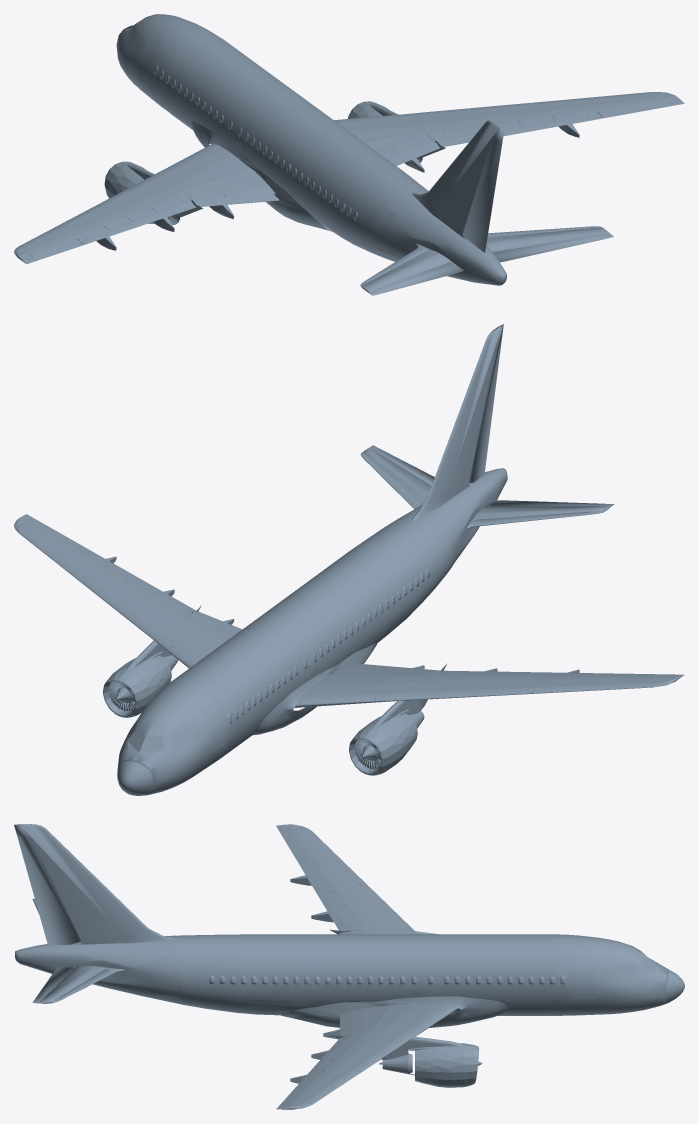
3 views of the same model, one above another, from view 1: azimuth 30°, elevation 25°; view 2: azimuth 150°, elevation 25°; view 3: azimuth 270°, elevation 25° (orthographic). The views are drawn at different scales.
Size of the model in its own units: 33.91 by 11.64 by 33.89.
